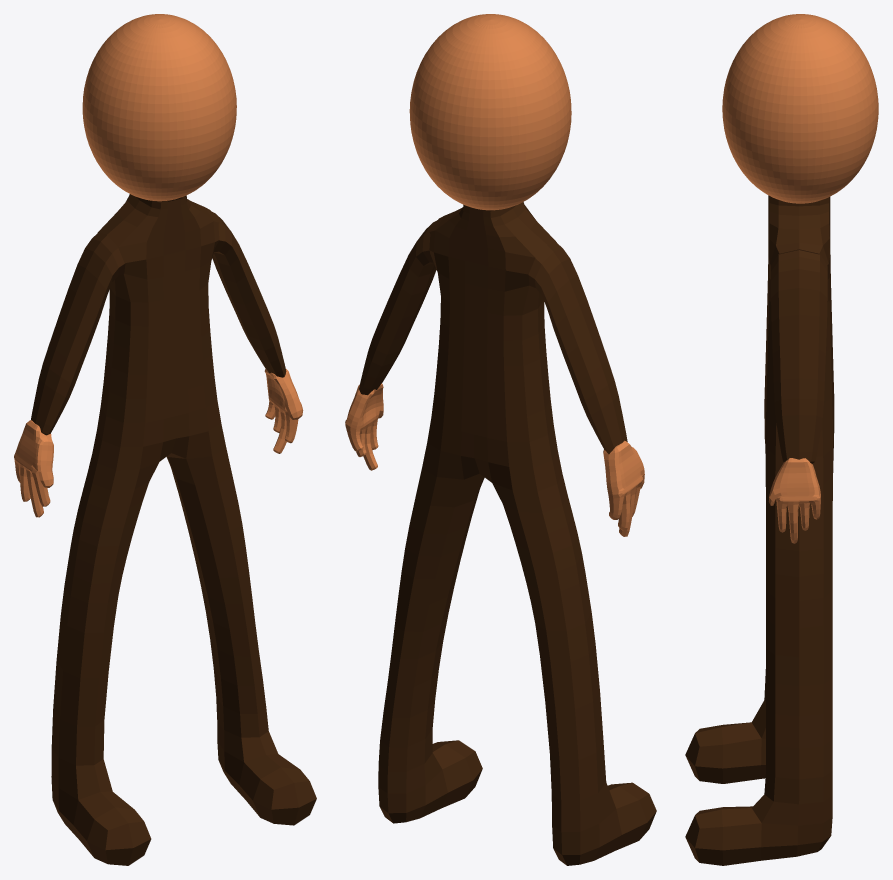
3 renders of one model, left to right at view 1: azimuth 30°, elevation 25°; view 2: azimuth 150°, elevation 25°; view 3: azimuth 270°, elevation 25°, orthographic. The views are drawn at different scales.
Visible parts, largest first — view 1: Cube; view 2: Cube; view 3: Cube.
Boxes of the visible parts, x1=… form: Cube: x1=14, y1=14, x2=316, y2=865; Cube: x1=345, y1=14, x2=656, y2=865; Cube: x1=685, y1=14, x2=878, y2=865.
Size of the model in its own units: 635 by 1798 by 392.
